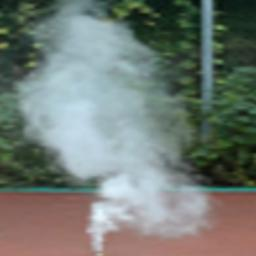smoke: (16, 0, 209, 255)
